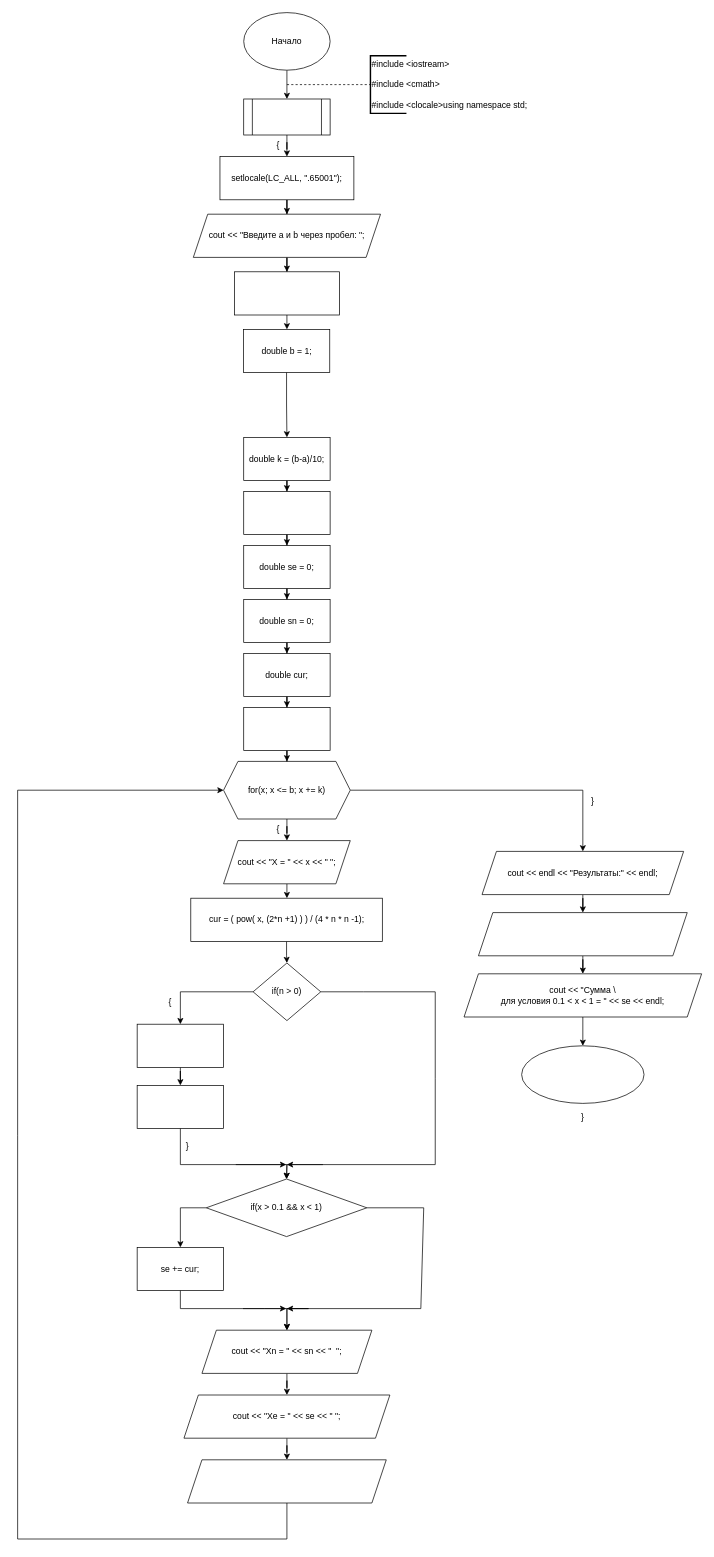
The diagram is 714 pixels wide and 1557 high, and some of its shapes have lost their labels. The shapes that lost their labels are listed below. From the top down, each one's centre as x and y in pixels, then its label:
(286,116): int main()
(286,293): double a = 0.1;
(286,513): double n = 30;
(286,729): double& x = a;
(582,934): cout << "Сумма \ для условия n <= 30 = " << sn << endl;
(180,1045): sn += cur;
(582,1074): return 0;
(180,1107): n--;
(286,1481): cout << "Y \ = " << ( (1 + x*x)/2 ) * atan(x) - x/2 << endl;
